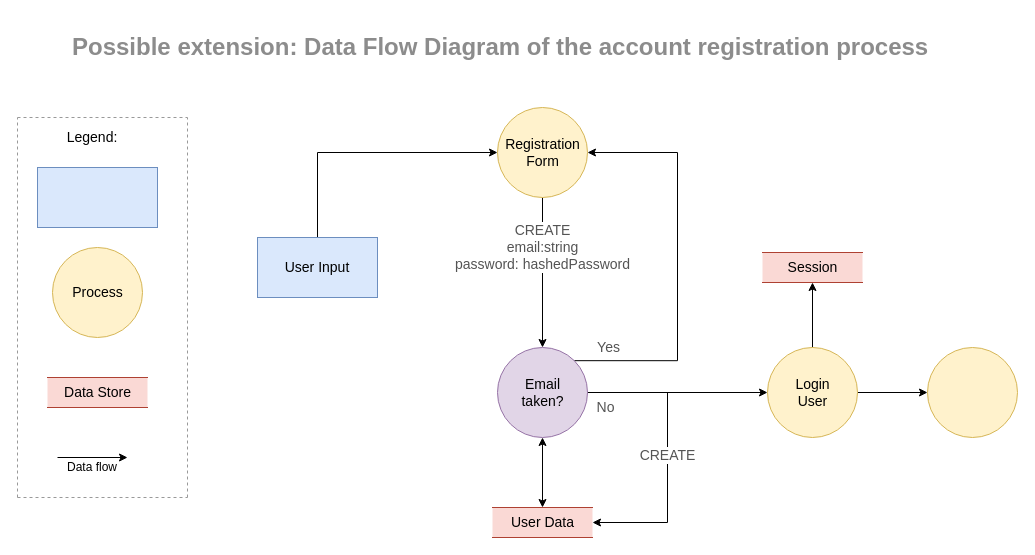
The diagram is 1035 pixels wide and 555 high, and some of its shapes have lost their labels. Each missing label, with the centre of its shape:
"Entity" goes at point 97,197.
"Redirect to Account" goes at point 972,392.
